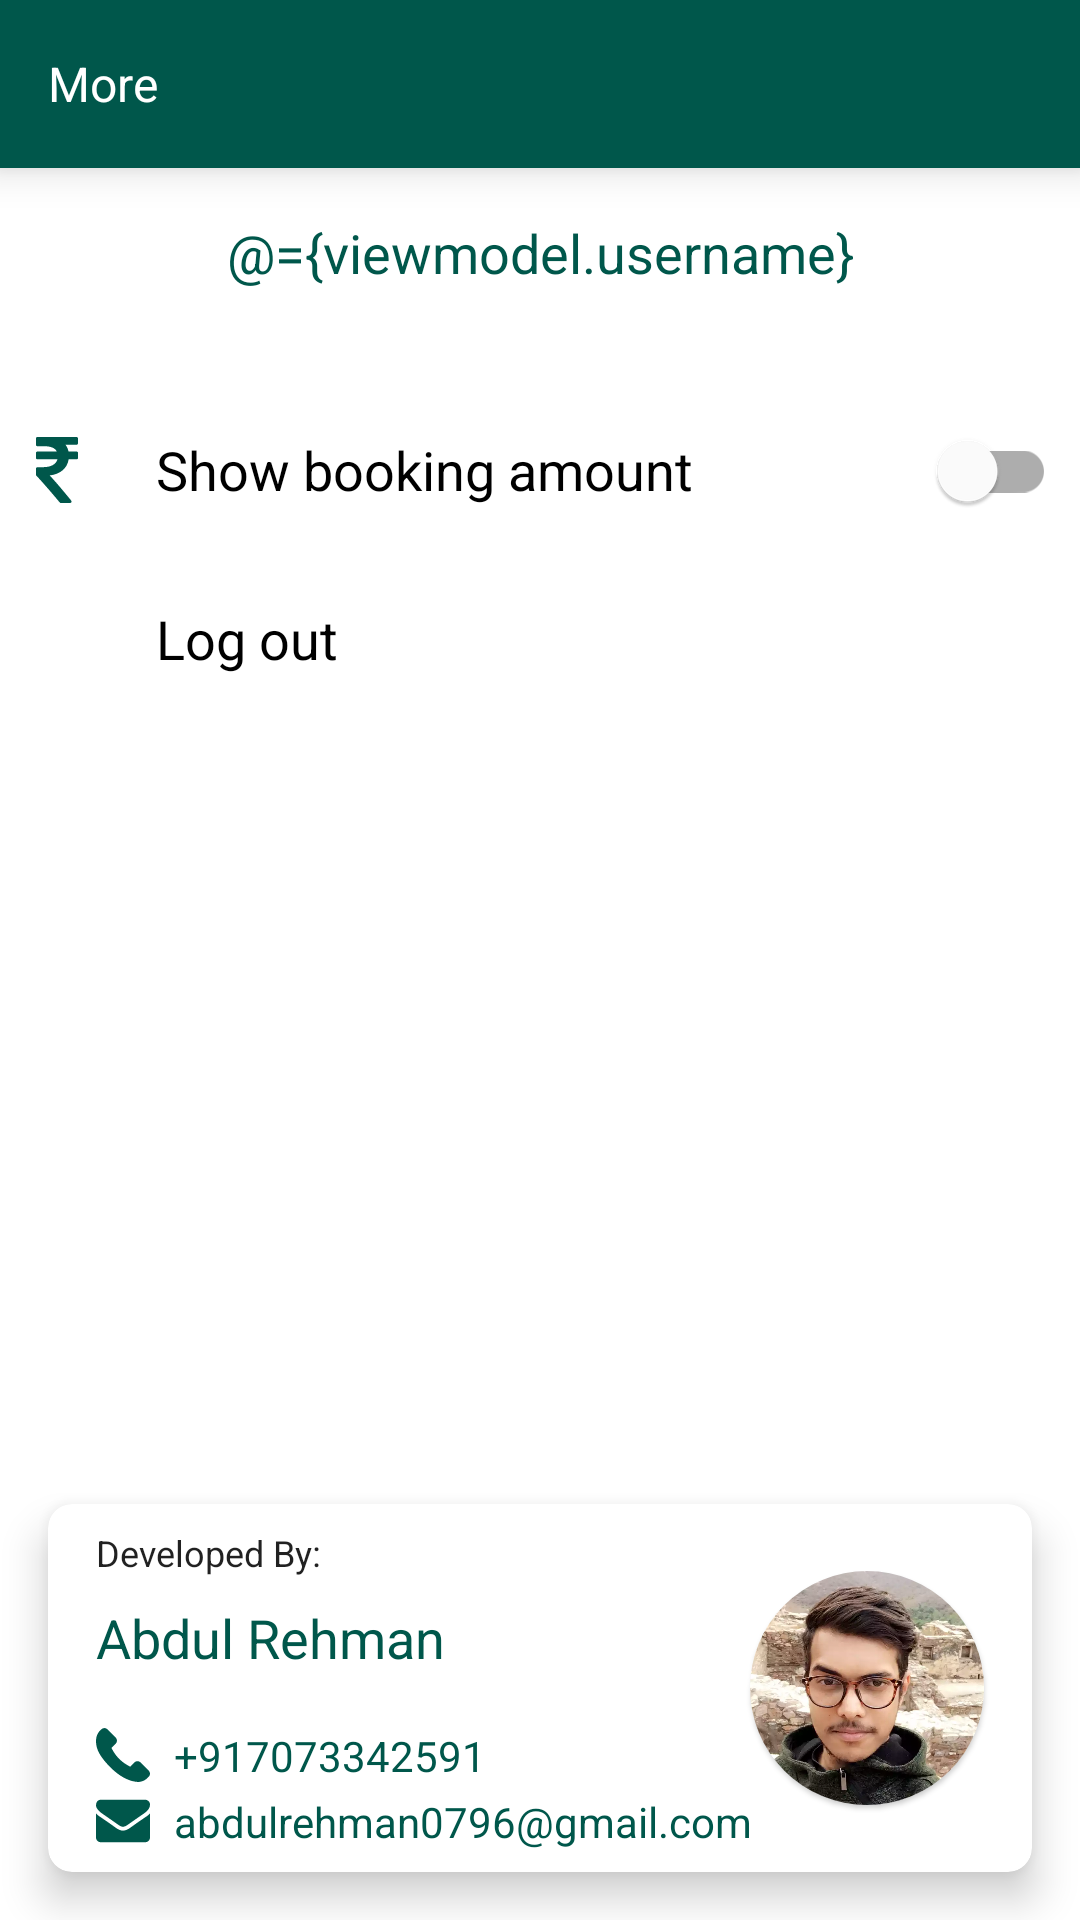

Named icons in this screenshot (1080px x 1920px) and their bounding boxes, (x1, y1, x2, y2):
envelope: (96, 1799, 150, 1843)
phone: (96, 1728, 150, 1782)
rupee symbol: (36, 437, 78, 503)
